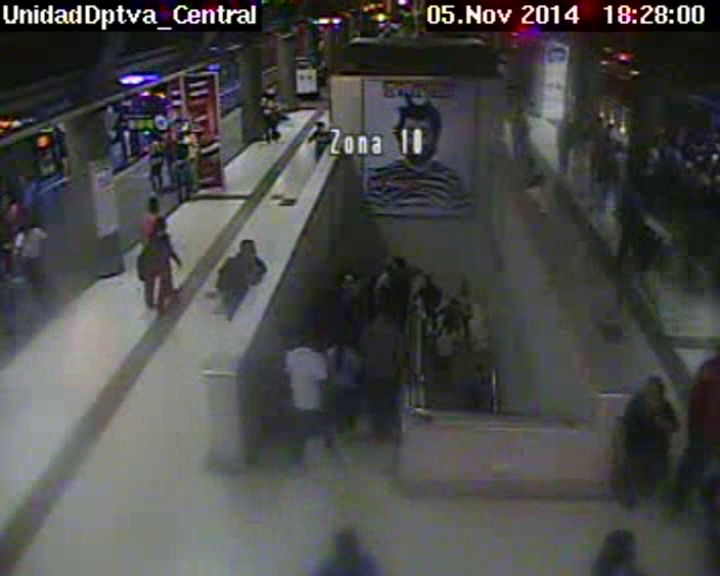person: (333, 529, 361, 560), (644, 375, 665, 402), (236, 238, 259, 257), (302, 333, 319, 351), (21, 216, 36, 233), (152, 216, 167, 232), (144, 195, 160, 209), (611, 206, 624, 223), (343, 273, 357, 287), (392, 256, 407, 269), (376, 310, 389, 324), (422, 272, 434, 285), (457, 281, 469, 294), (337, 334, 349, 347), (149, 141, 161, 154), (627, 178, 639, 191), (472, 364, 486, 375), (177, 127, 188, 140), (525, 157, 538, 168), (441, 315, 450, 328), (562, 113, 572, 124), (654, 136, 664, 147), (316, 120, 326, 130), (614, 141, 624, 151), (449, 296, 457, 308), (515, 103, 524, 113), (665, 152, 674, 162), (710, 152, 719, 162), (606, 151, 615, 160), (695, 135, 704, 144), (594, 117, 603, 125), (697, 163, 705, 172), (684, 160, 692, 169), (605, 123, 613, 131), (679, 116, 687, 124), (265, 83, 272, 91), (584, 112, 591, 119)
